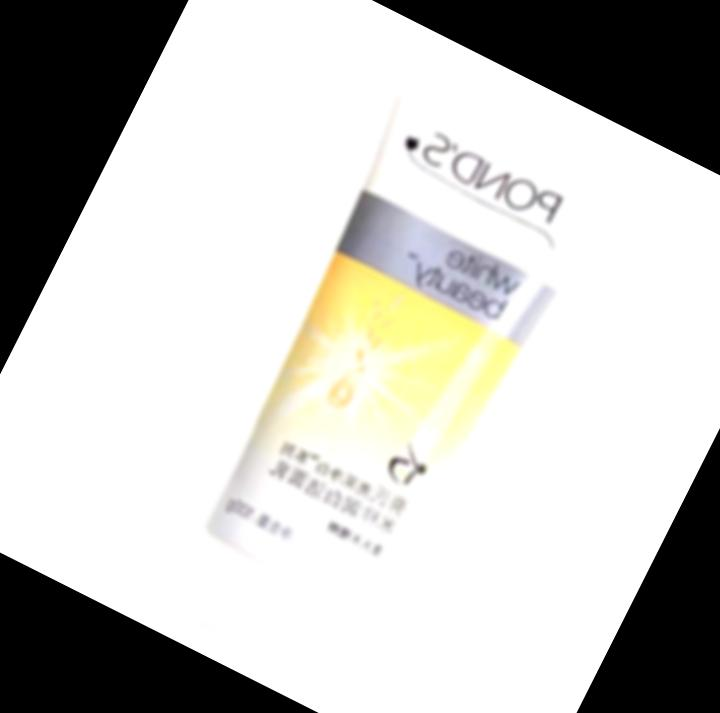cosmetic: (139, 54, 639, 710)
